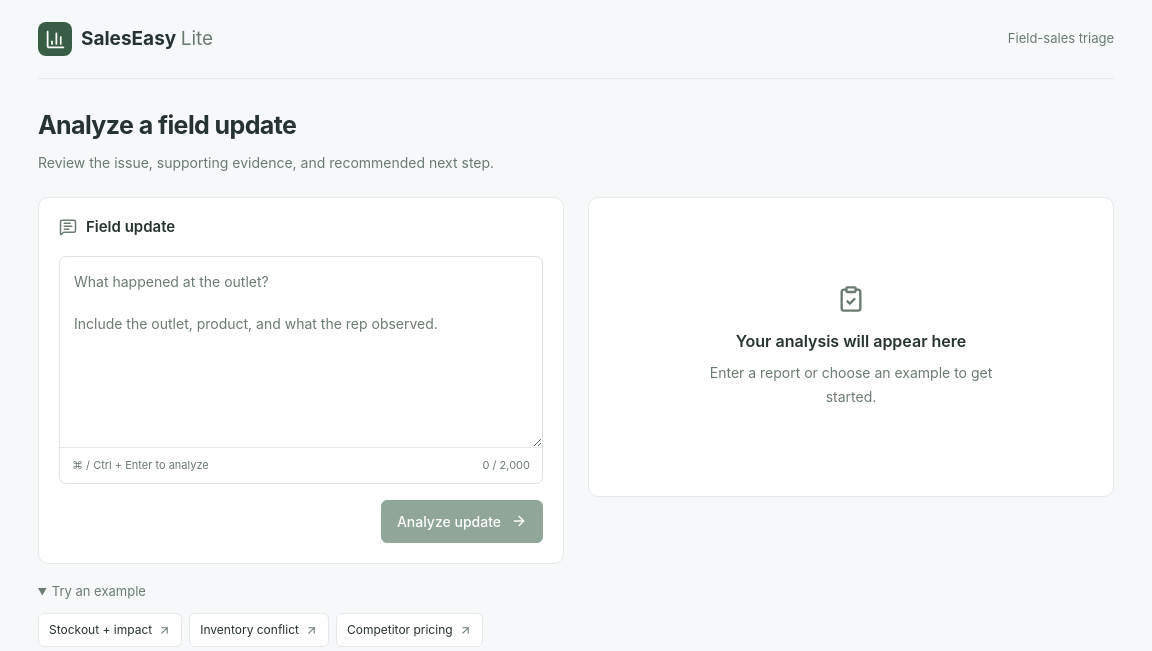
Test: field triage workflow › shows provider failures without rendering a substitute analysis
This screenshot has width=1152, height=651.
Replace the text in the text box with "A customer feels unwell.": [301, 352] box x1=60 y1=257 x2=542 y2=447
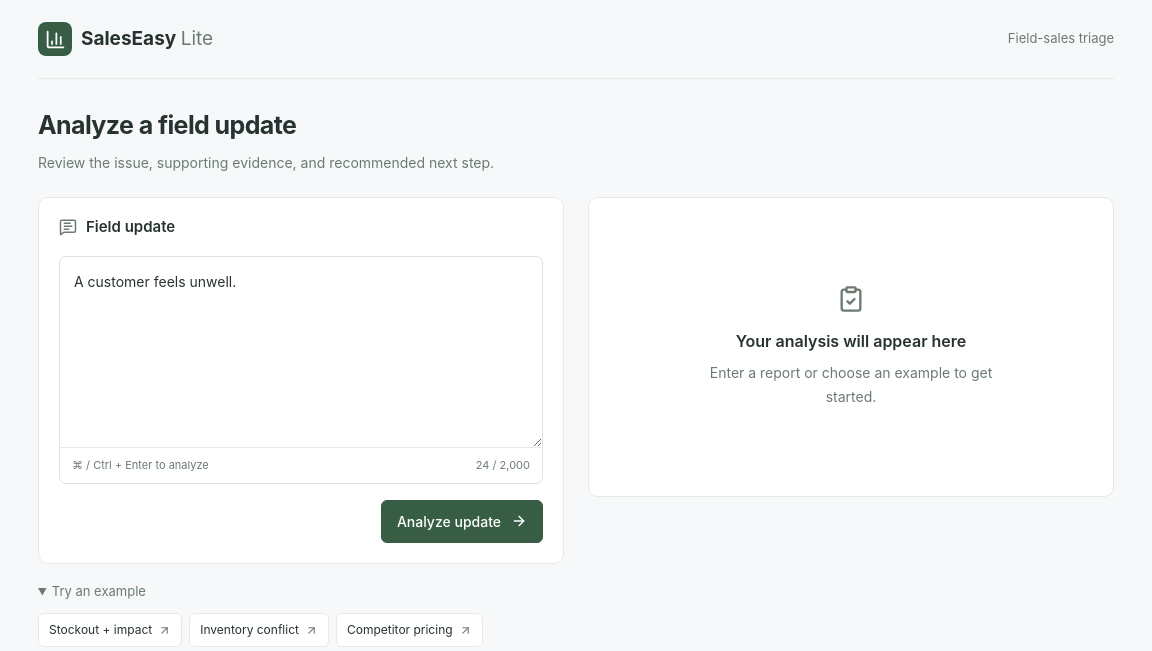
Click the button "Analyze update": [462, 521] box x1=381 y1=500 x2=543 y2=542
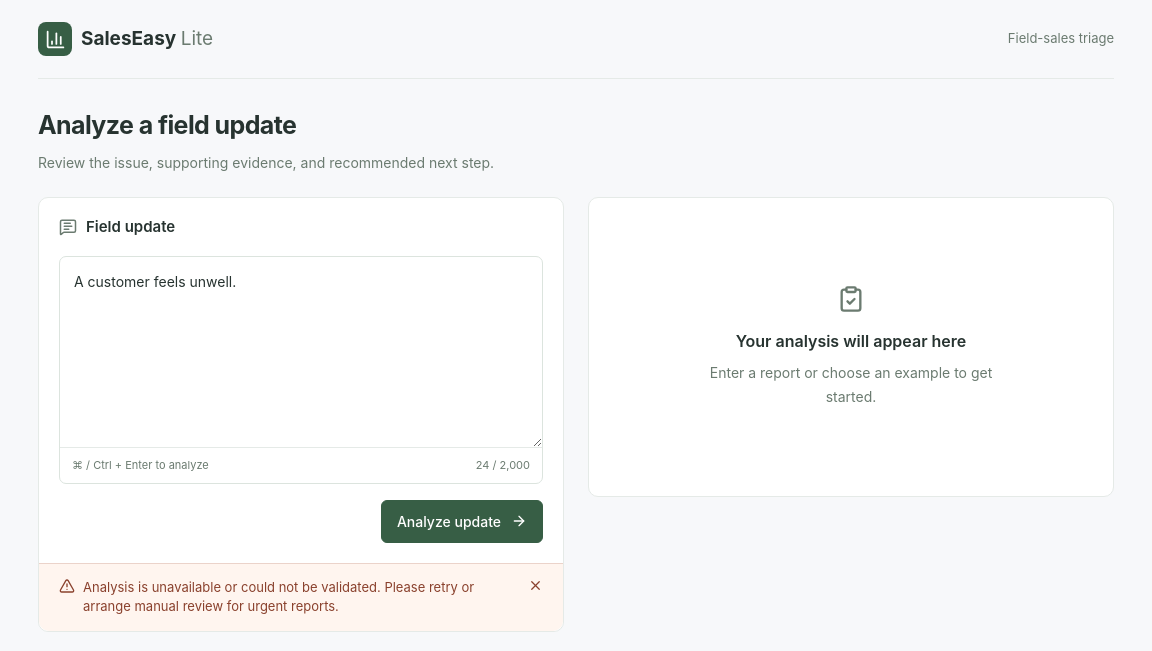
Check: the button "Analyze update" is enabled, box x1=381 y1=500 x2=543 y2=542
Check: the 2nd message shows "manual review", box x1=83 y1=578 x2=474 y2=614
